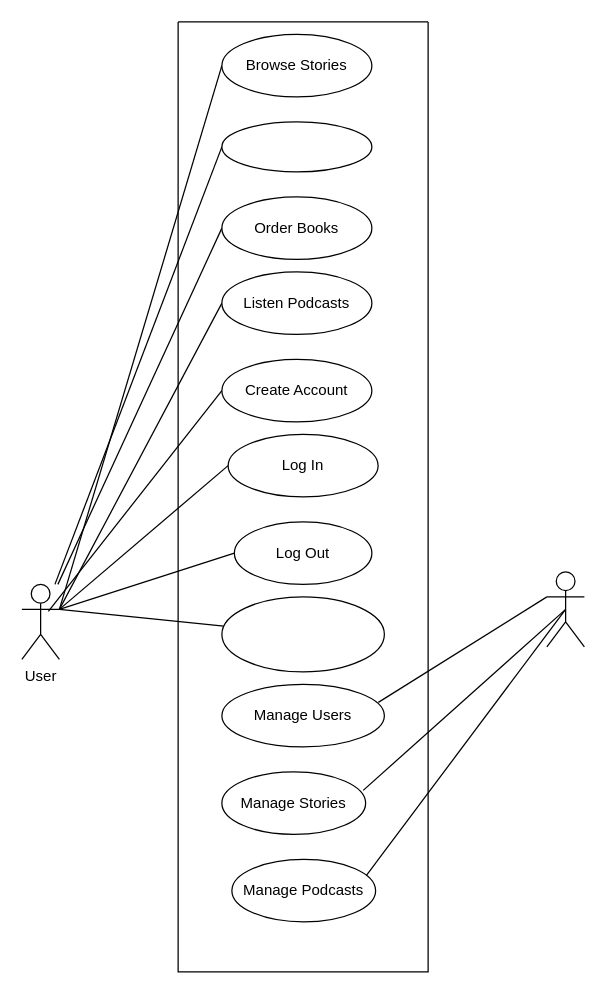
This 609x994 diagram has some shape labels left out. The centre of each missing label's shape, as x and y in pixels:
Admin: point (565, 609)
Read Story: point (296, 146)
Search Podcasts: point (302, 634)
